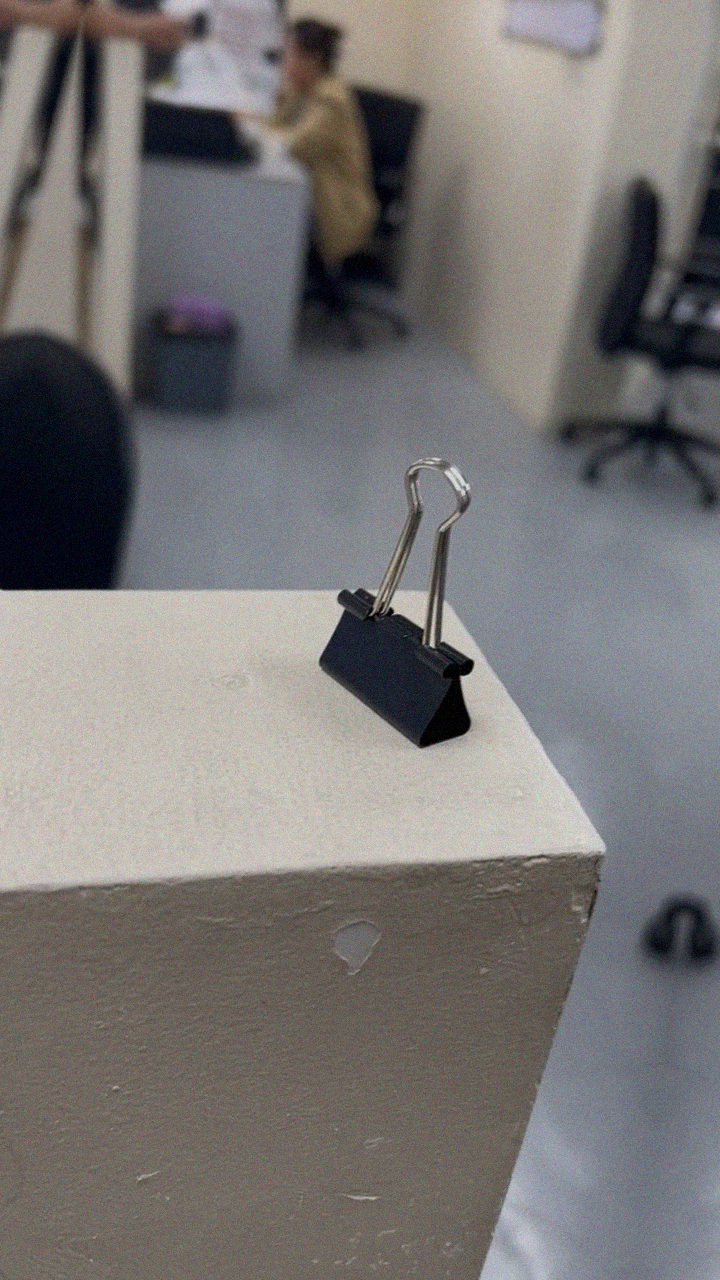kep_giay: (304, 442, 511, 759)
